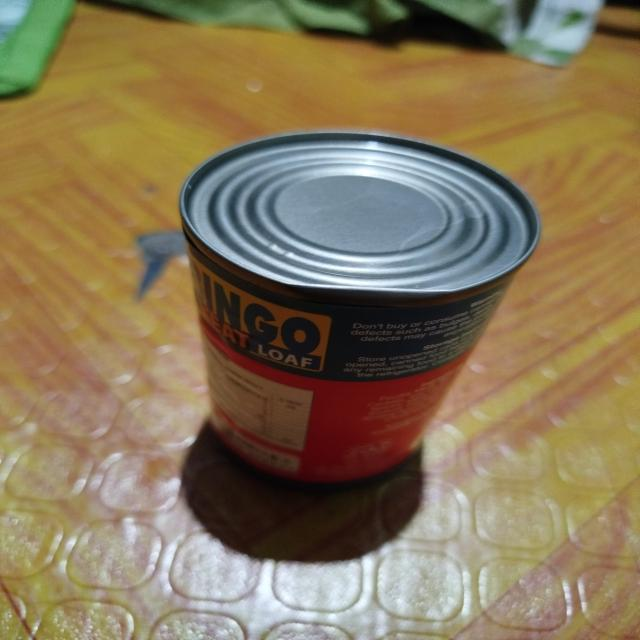metal: (169, 119, 557, 504)
